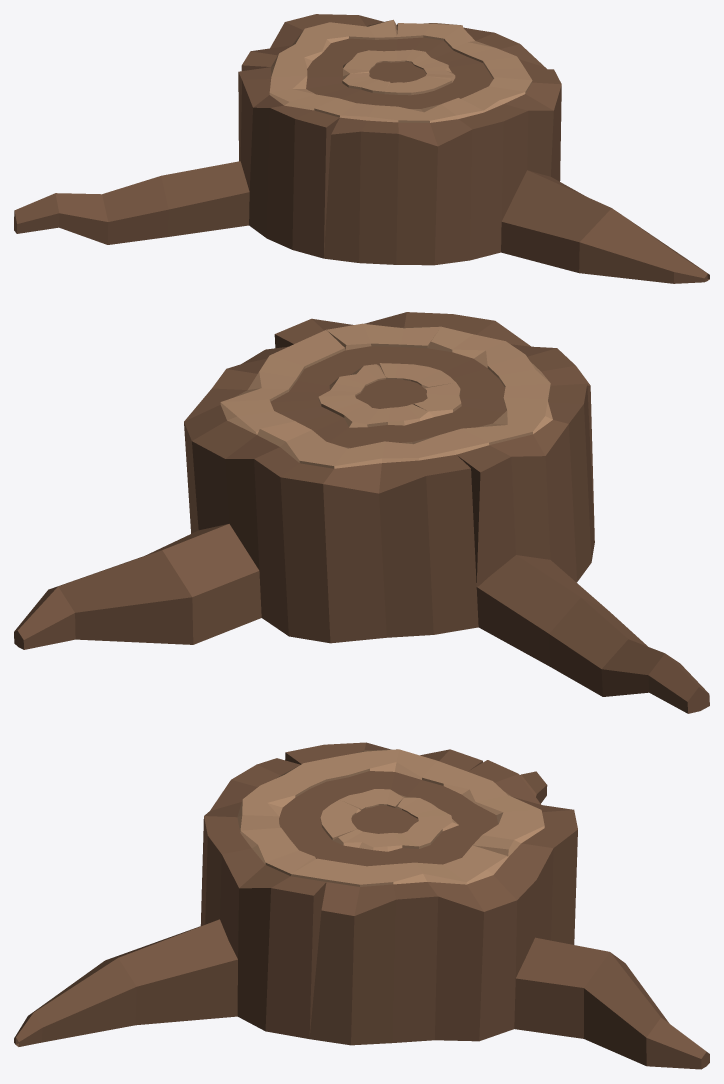
Rendered from Trunk_8.fbx.
3 renders of one model, top to bottom at view 1: azimuth 30°, elevation 25°; view 2: azimuth 150°, elevation 25°; view 3: azimuth 270°, elevation 25°, orthographic. The views are drawn at different scales.
Parts seen in each view (by area): view 1: M_Trunk 8; view 2: M_Trunk 8; view 3: M_Trunk 8.
Part boxes in pixels (x1,y1,x2,y2): M_Trunk 8: (14,14,709,283); M_Trunk 8: (14,312,709,713); M_Trunk 8: (14,742,709,1069).
Size of the model in its own units: 32.15 by 9.38 by 35.34.
1 material, 1 textured.
